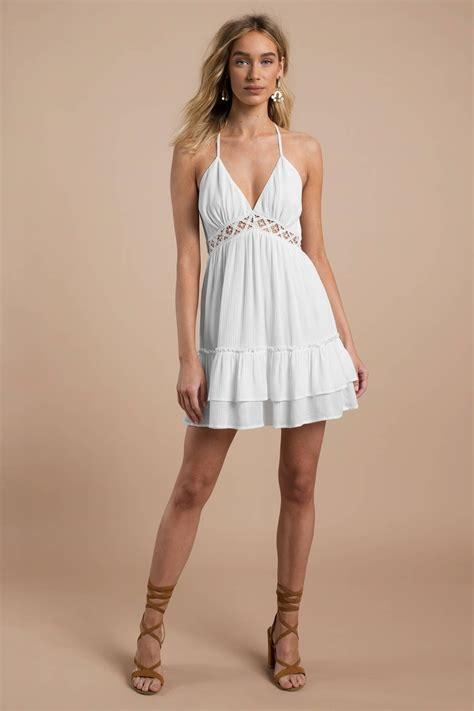dress: (182, 130, 361, 430)
